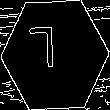L_S: (40, 29, 70, 81)
